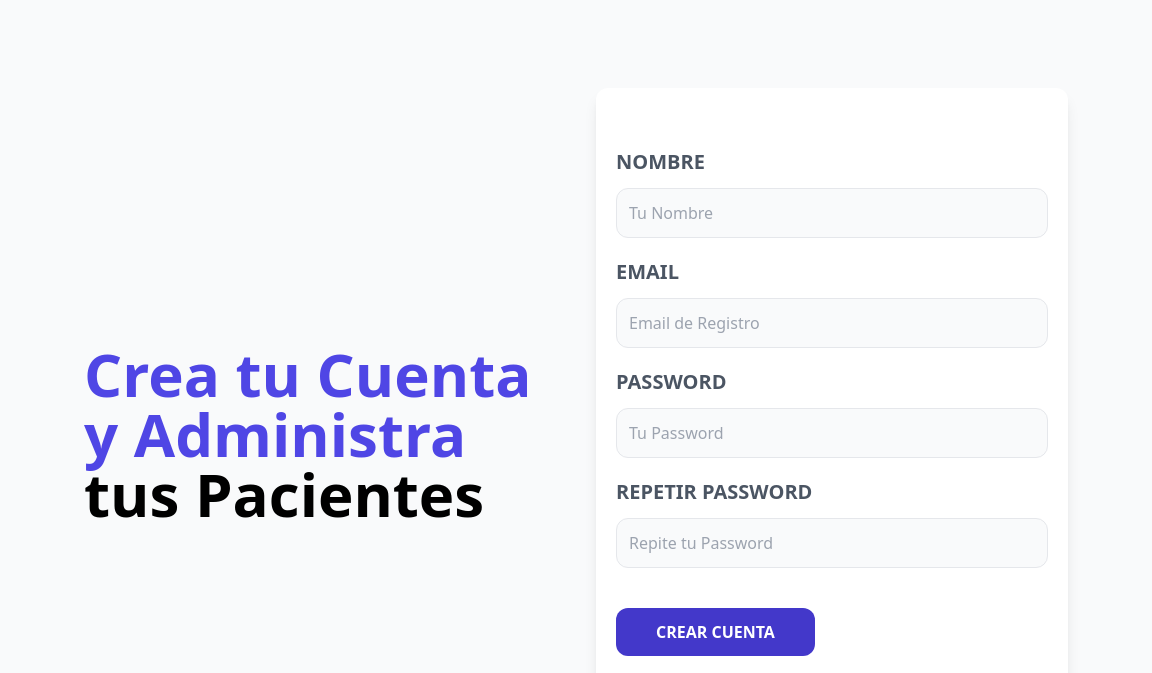
Scenario: Pruebas en el formulario de Registro › Debe mostrar error si los passwords no coinciden
In the field with placeholder "Tu Nombre": (832, 213) [616, 188, 1048, 238], type "Usuario de Prueba"
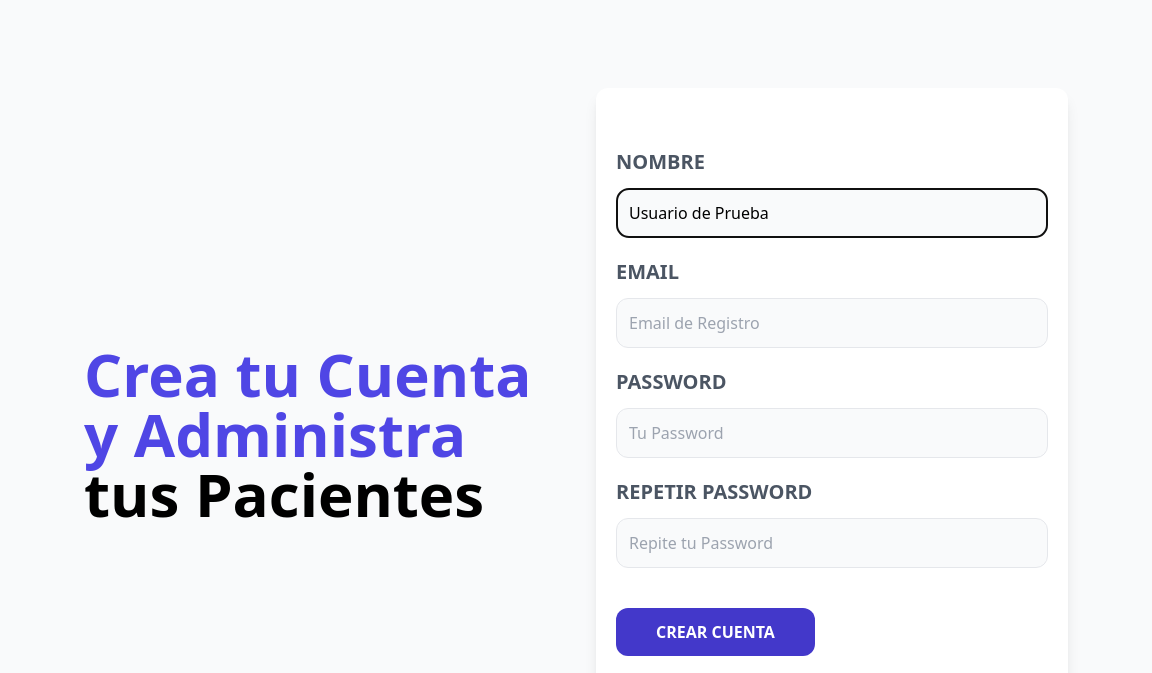
In the field with placeholder "Email de Registro": (832, 323) [616, 298, 1048, 348], type "usuario@ejemplo.com"
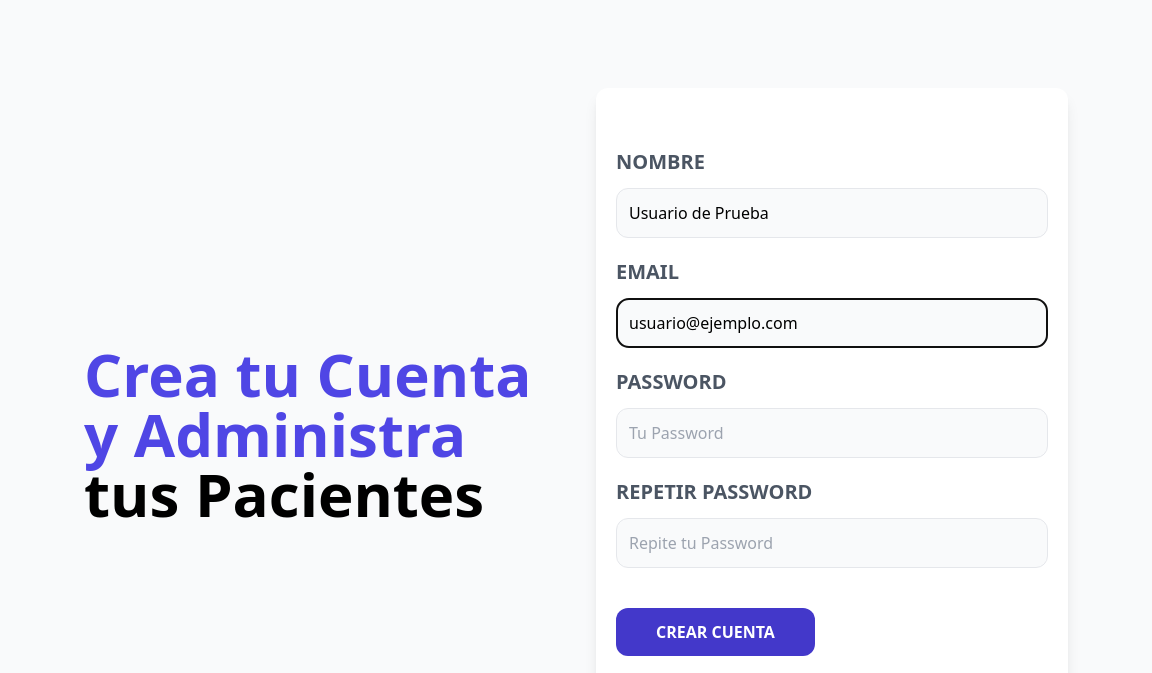
In the password field with placeholder "Tu Password": (832, 433) [616, 408, 1048, 458], type "password123"
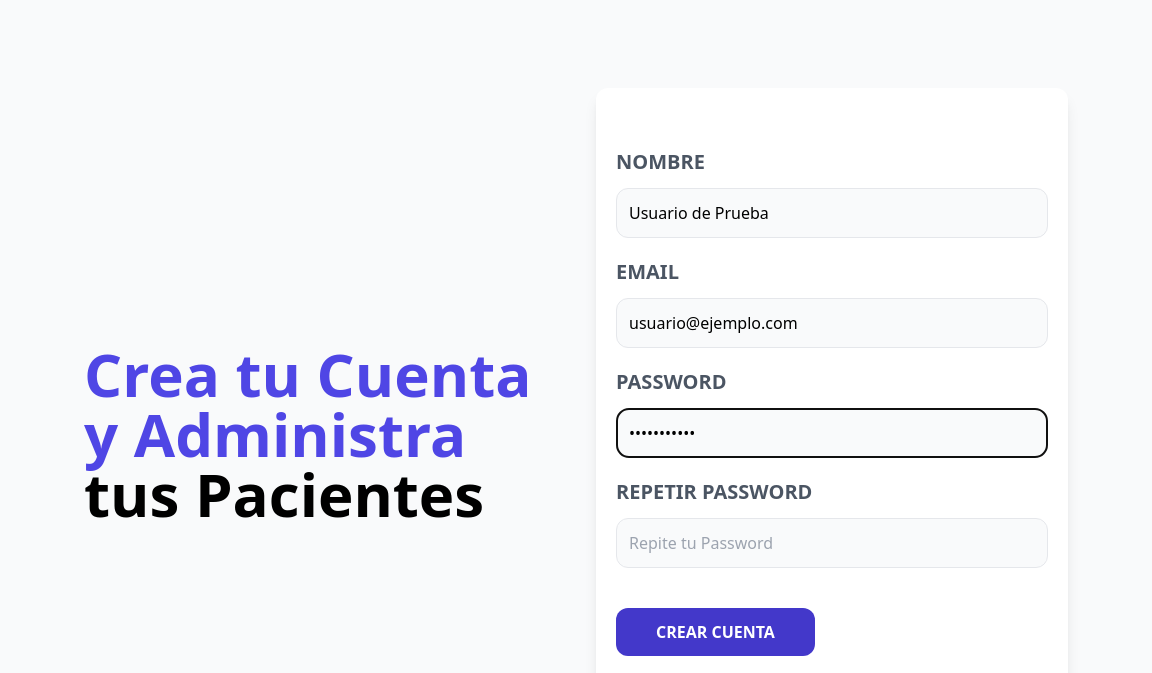
In the password field with placeholder "Repite tu Password": (832, 543) [616, 518, 1048, 568], type "diferentePassword"
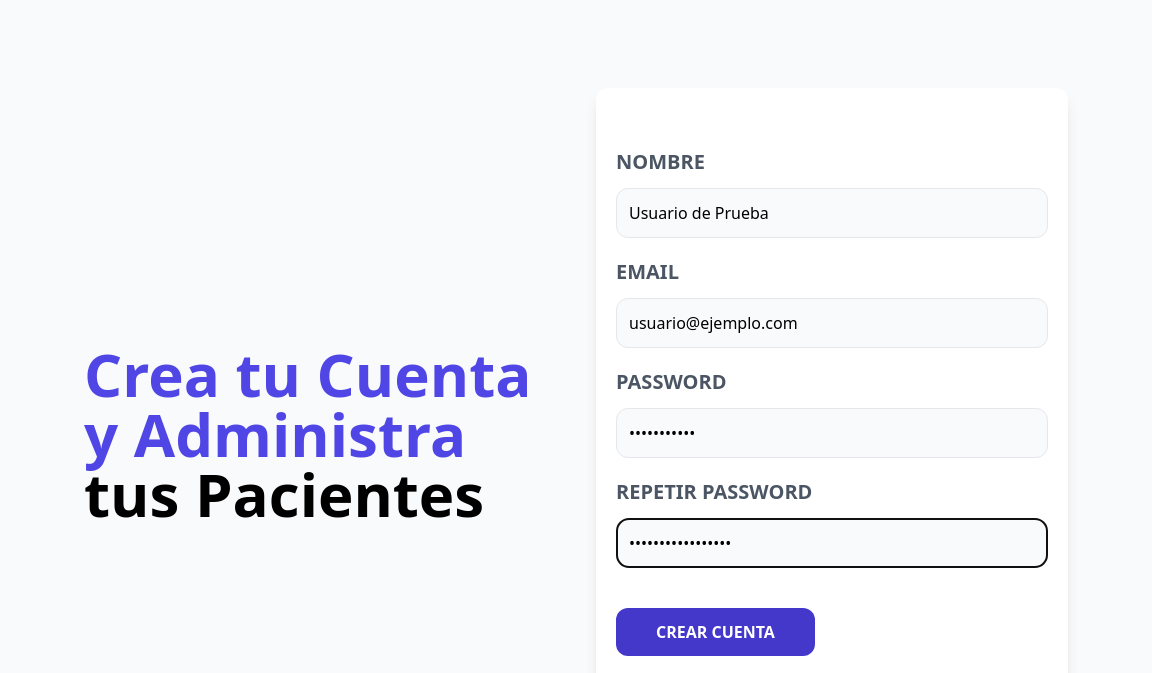
Click the submit button: (716, 632) [616, 608, 815, 656]
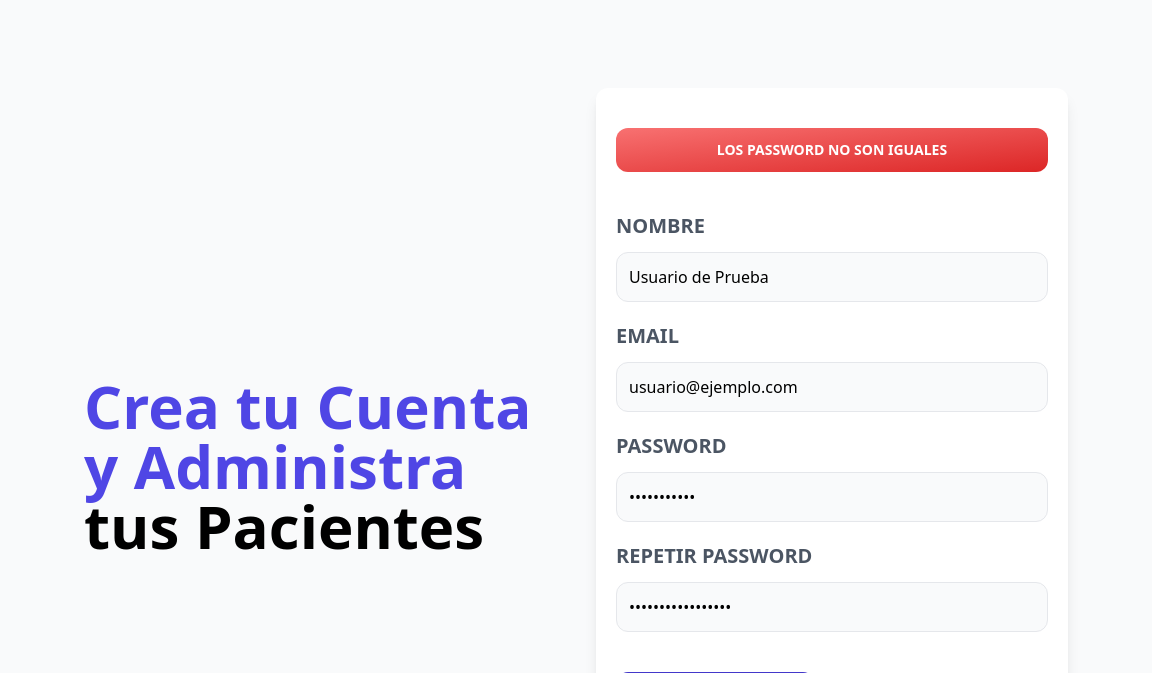
expect the text with class "alerta" reads "Los Password no son iguales": met, box [616, 128, 1048, 172]
